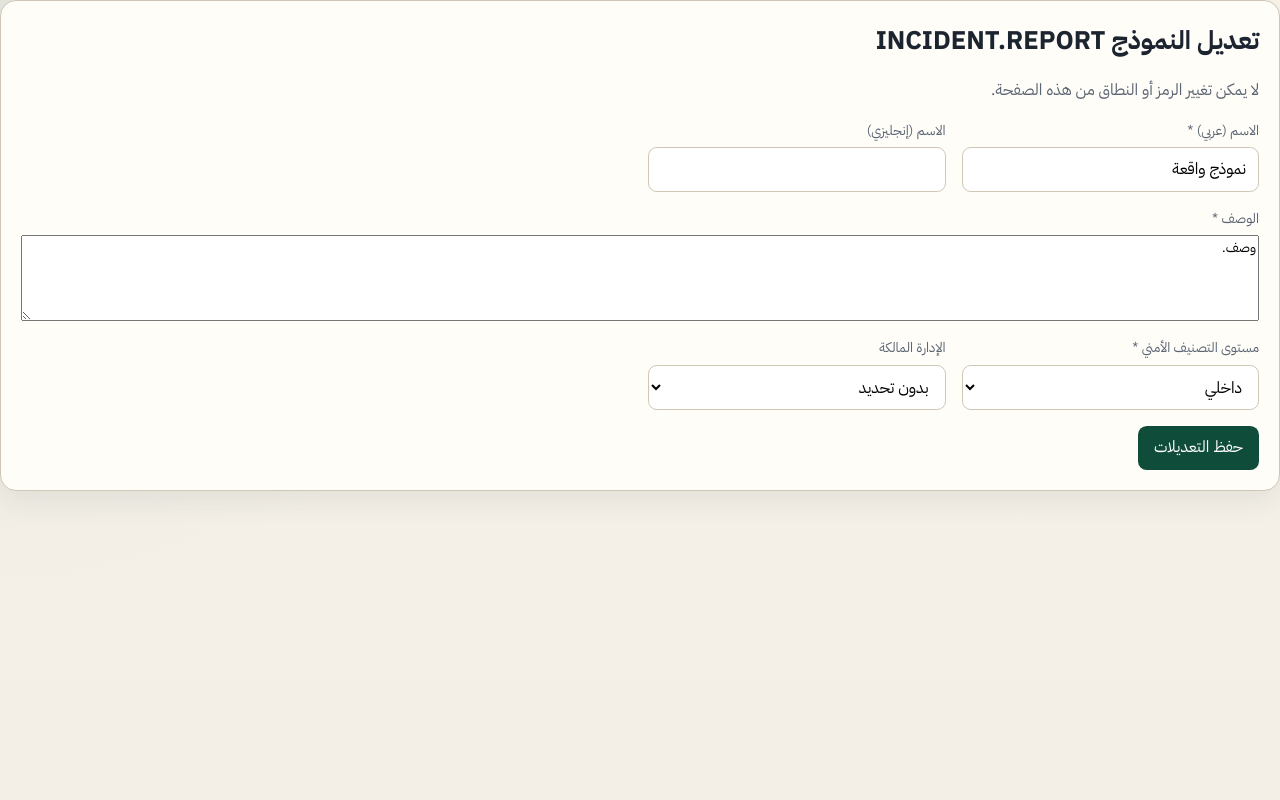
Scenario: FormEditPage › shows conflict message on 409
Expected: the field labelled "الاسم (عربي)" holds "نموذج واقعة", [962, 147, 1259, 192]
Click the button "حفظ التعديلات" at {"x": 1198, "y": 448}, box [1138, 426, 1259, 470]
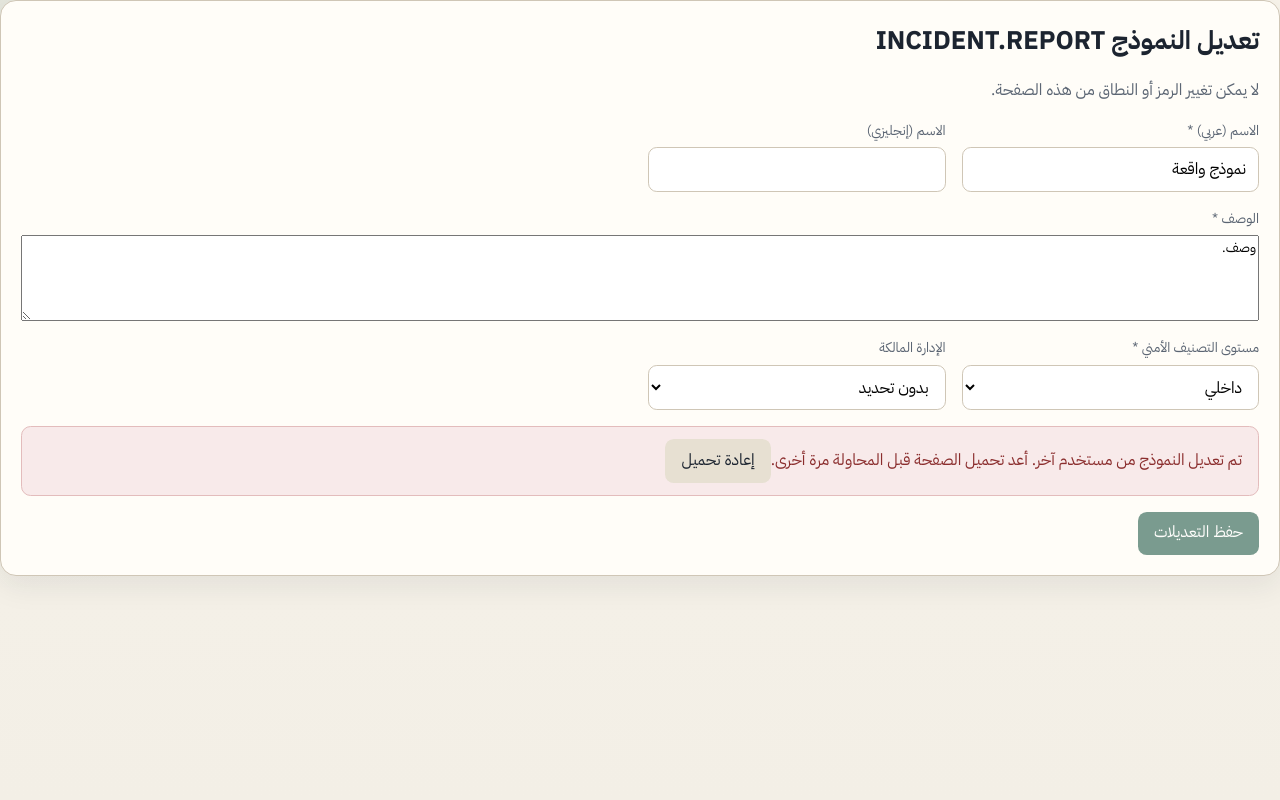
Expected: the message shows "تم تعديل النموذج من مستخدم آخر", [771, 448, 1242, 472]
